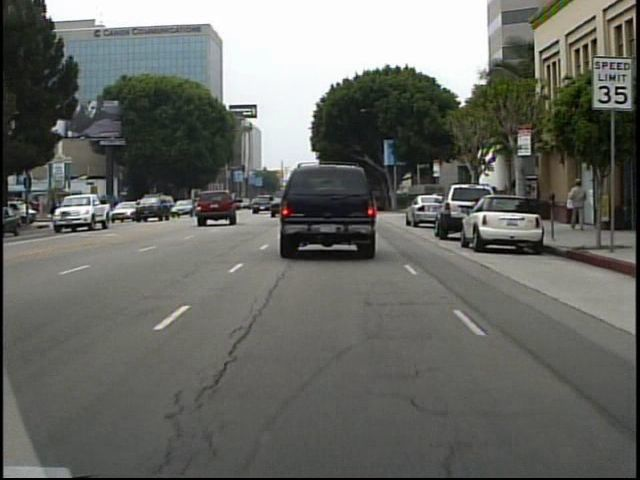person: (563, 174, 589, 237), (468, 178, 486, 220), (53, 199, 58, 226)
